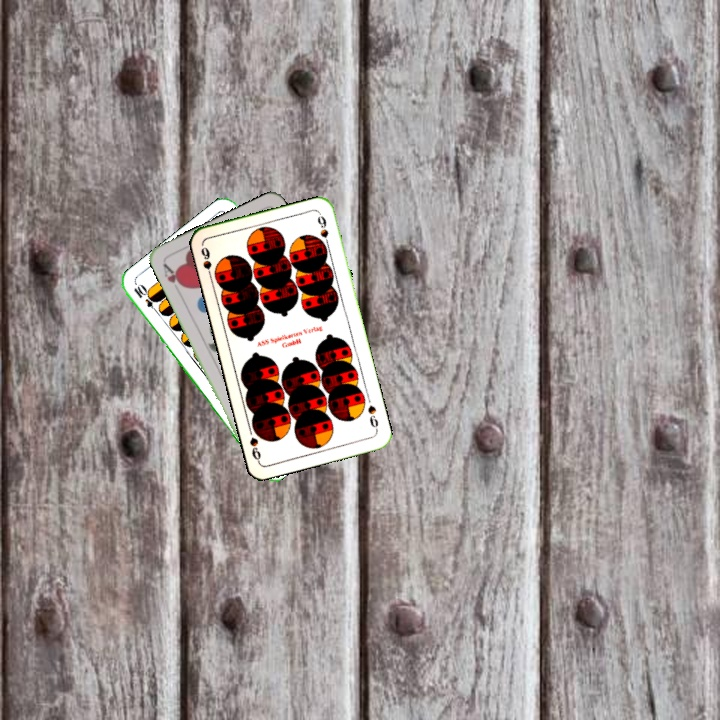E10: (130, 281, 162, 316)
HA: (159, 259, 187, 291)
S9: (197, 241, 221, 281), (364, 401, 381, 434)
